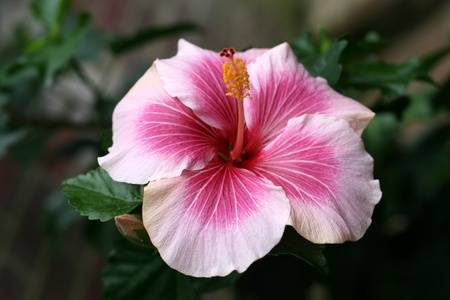Hibiscus: (112, 18, 386, 281)
